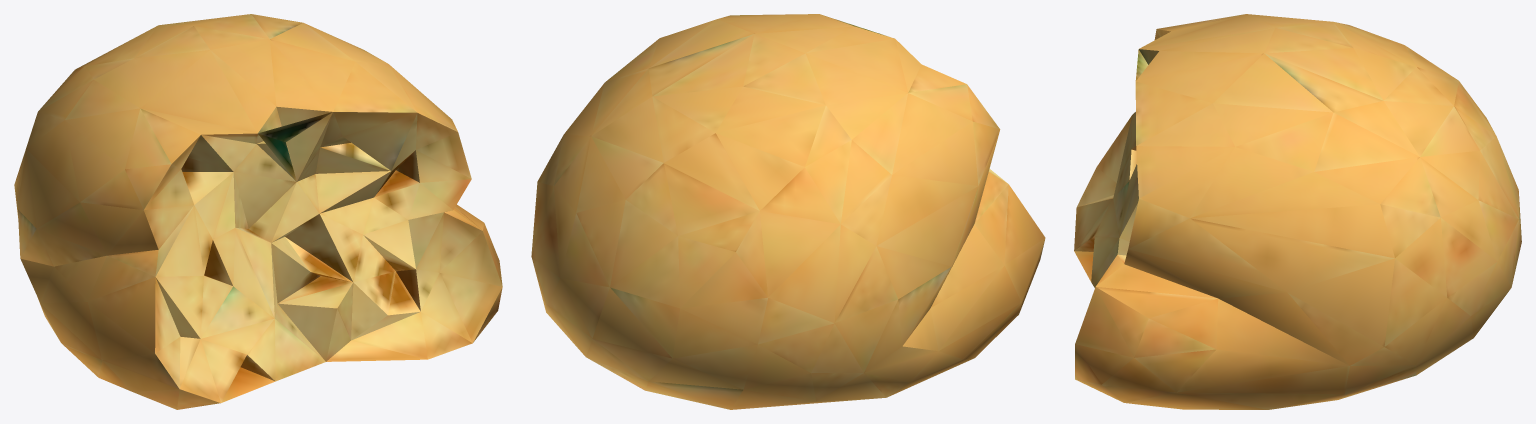
Rendered from crumb.glb.
3 views of the same model, side by side, from view 1: azimuth 30°, elevation 25°; view 2: azimuth 150°, elevation 25°; view 3: azimuth 270°, elevation 25° (orthographic). The views are drawn at different scales.
Parts seen in each view (by area): view 1: Mesh_0; view 2: Mesh_0; view 3: Mesh_0.
Boxes of the visible parts, <box> form: Mesh_0: <box>14,14,502,409</box>; Mesh_0: <box>531,14,1045,409</box>; Mesh_0: <box>1074,14,1521,409</box>.
Bounding box in the file's own units: 1.8 × 1.35 × 1.79.
Materials: 1 (1 with a texture image).
